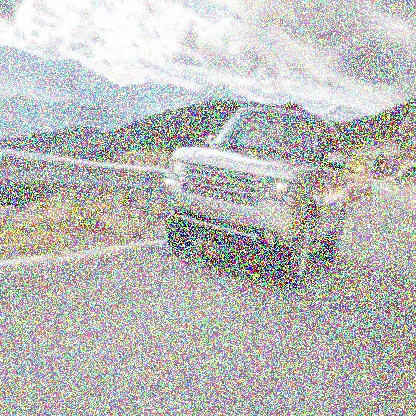Vehicle: (162, 108, 350, 291)
